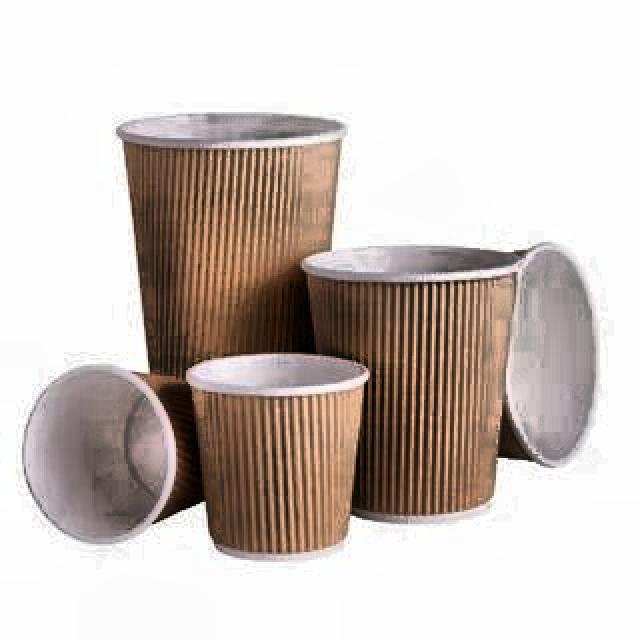Cup: (107, 99, 371, 510), (284, 227, 524, 531), (182, 345, 364, 573), (16, 355, 225, 553)
